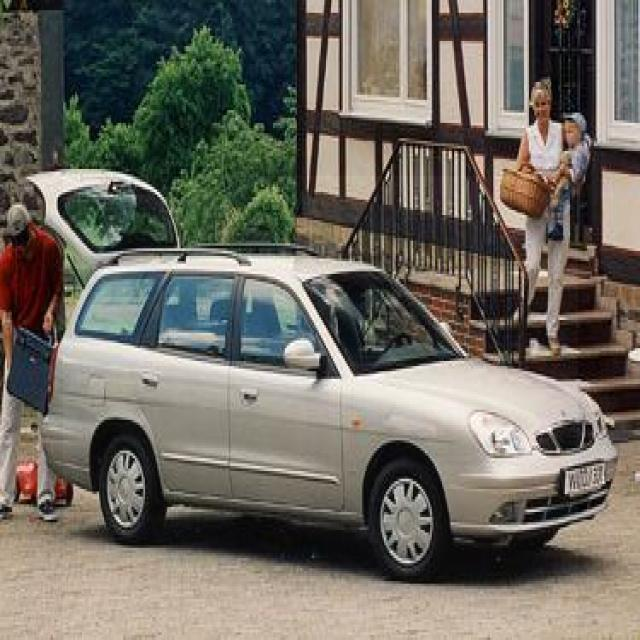Car: (63, 176, 578, 640)
